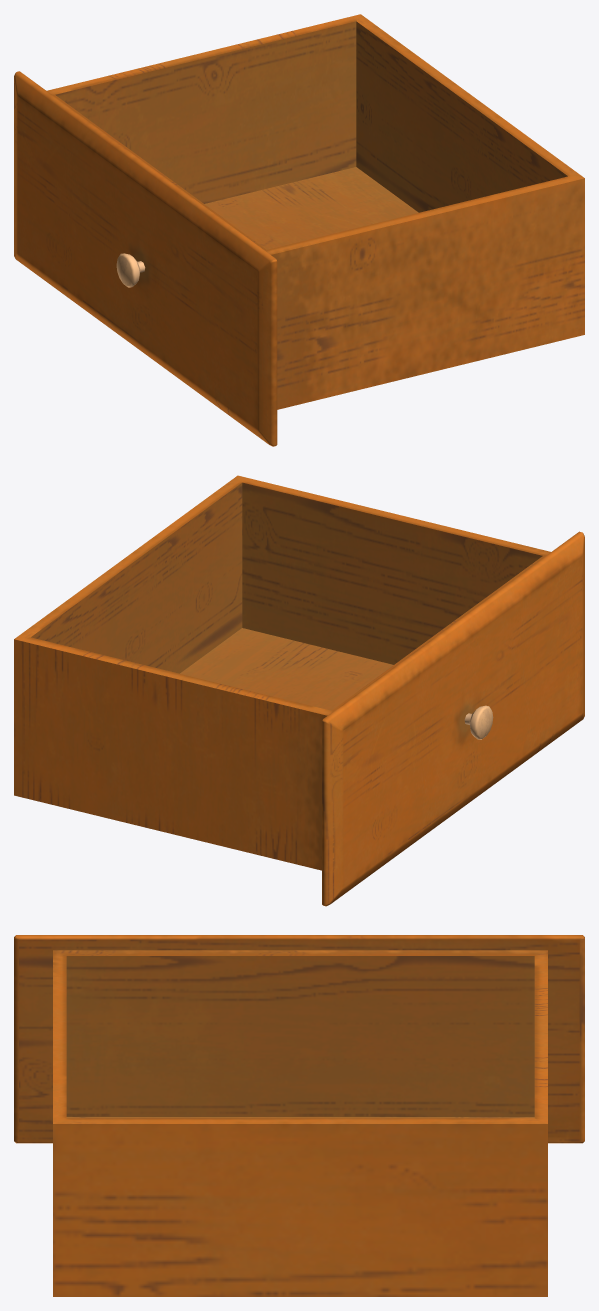
The model's file is SM_BedTable_A1_Cab.fbx.
The picture shows the model from 3 angles, top to bottom: view 1: azimuth 30°, elevation 25°; view 2: azimuth 150°, elevation 25°; view 3: azimuth 270°, elevation 25°; orthographic projection. The views are drawn at different scales.
Parts seen in each view (by area): view 1: SM_BedTable_A1_Cab; view 2: SM_BedTable_A1_Cab; view 3: SM_BedTable_A1_Cab.
Part boxes in pixels (left/top/right/bottom): SM_BedTable_A1_Cab: left=14, top=14, right=584, bottom=446; SM_BedTable_A1_Cab: left=14, top=475, right=584, bottom=906; SM_BedTable_A1_Cab: left=14, top=935, right=584, bottom=1296.
Bounding box in the file's own units: 33.4 × 41.8 × 16.68.
1 material, 1 textured.
